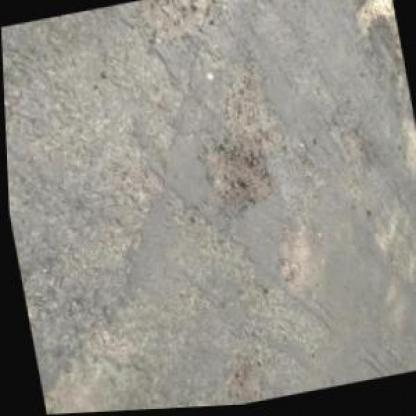pothole: (200, 139, 277, 226)
